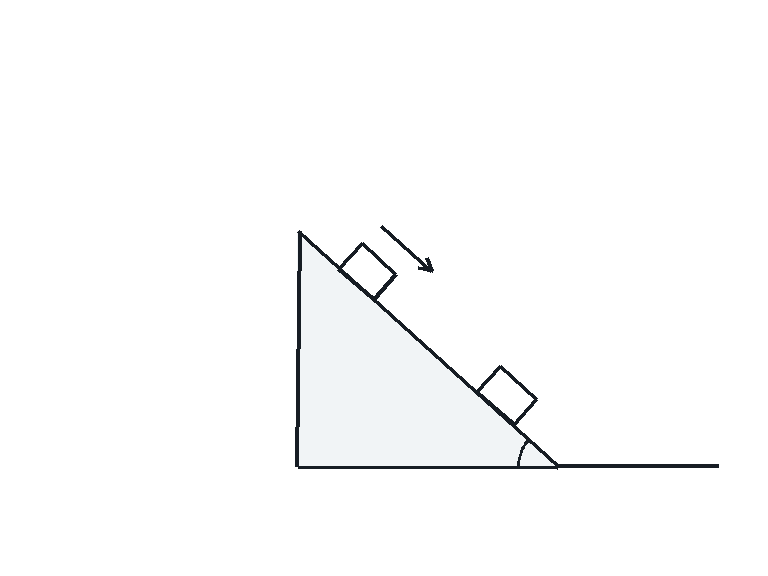block: (474, 364, 538, 427), (336, 241, 398, 301)
ramp: (295, 229, 560, 468)
